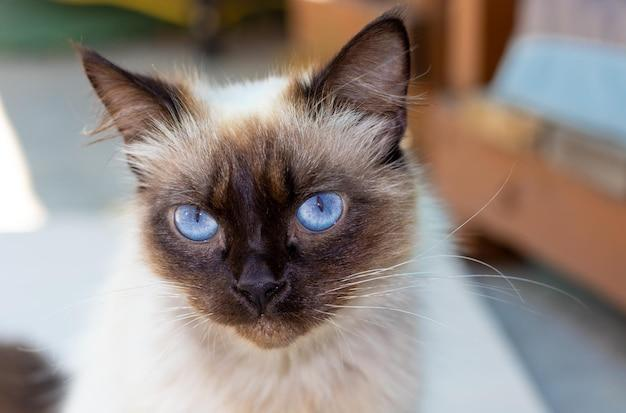siamese: (80, 12, 427, 360)
